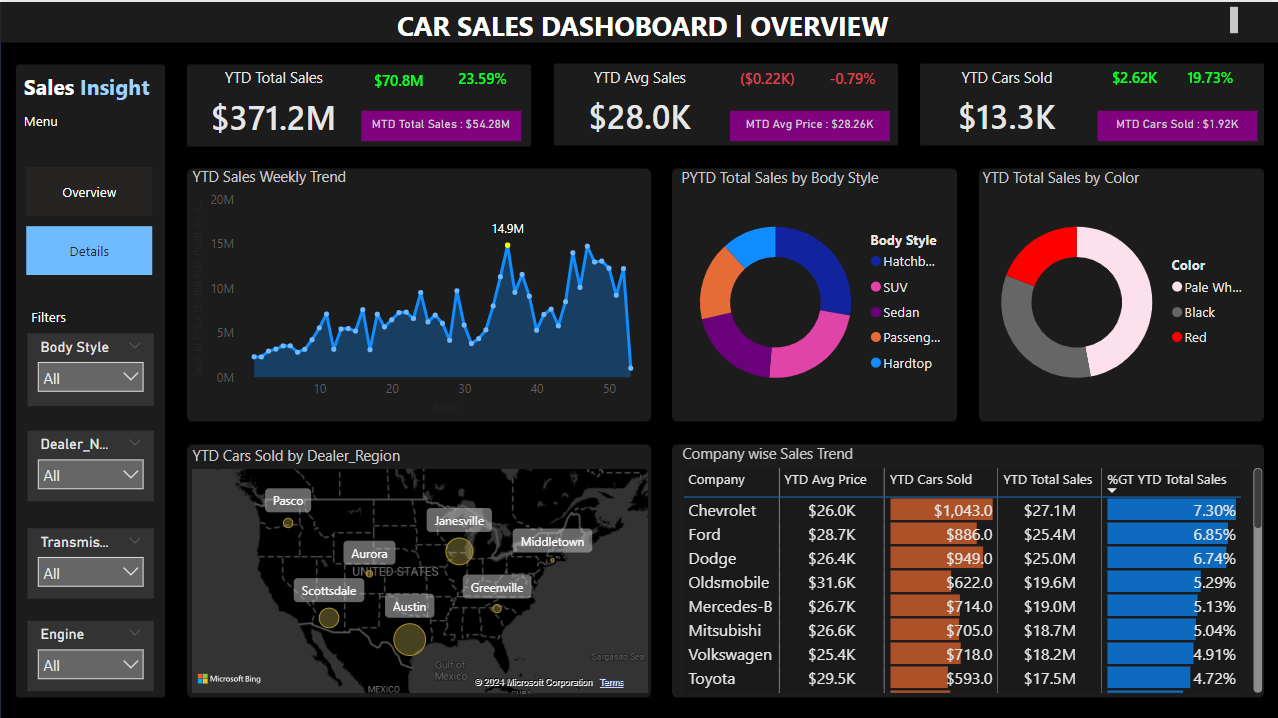

The page's visual inventory and layout, read from the dashboard file:
{"tool":"powerbi","page":{"name":"Overview","canvas":[1280,720],"ordinal":0},"visuals":[{"type":"card","title":"YTD Total Sales","fields":{"Values":["car_data.YTD Total Sales"]},"box":[187.5,65,172.5,80.6],"z":0},{"type":"card","fields":{"Values":["car_data.Sales Difference"]},"box":[362.9,65.7,72.9,28.6],"z":1000},{"type":"card","fields":{"Values":["car_data.YoY Sales Growth"]},"box":[446.4,65.5,72.7,28.2],"z":2000},{"type":"card","fields":{"Values":["car_data.MTD KPI"]},"box":[361.4,108.6,160,30],"z":3000},{"type":"card","title":"YTD Avg Sales","fields":{"Values":["car_data.YTD Avg Price"]},"box":[553.3,65.6,172.2,80],"z":4000},{"type":"card","fields":{"Values":["car_data.Avg price Diff"]},"box":[725.4,65.4,84.6,26.9],"z":5000},{"type":"card","fields":{"Values":["car_data.YoY avg Price Growth"]},"box":[810,65,85,27.5],"z":6000},{"type":"card","fields":{"Values":["car_data.MTD Avg Price KPI"]},"box":[730,108.8,160,30],"z":7000},{"type":"card","title":"YTD Cars Sold","fields":{"Values":["car_data.YTD Cars Sold"]},"box":[921.2,65,171.2,80],"z":8000},{"type":"card","fields":{"Values":["car_data.Cars Sold Diff"]},"box":[1092.9,64.3,84.3,27.1],"z":9000},{"type":"card","fields":{"Values":["car_data.YoY car sold growth"]},"box":[1167.1,64.3,85.7,27.1],"z":10000},{"type":"card","fields":{"Values":["car_data.MTD Cars Sold KPI"]},"box":[1097.1,108.6,160,30],"z":11000},{"type":"areaChart","title":"YTD Sales Weekly Trend","fields":{"Category":["Calendar Table.Week"],"Y":["Sum(car_data.Price ($))","car_data.Max Point on Are chart"]},"box":[187.1,164.3,465.7,251.4],"z":12000},{"type":"donutChart","fields":{"Category":["car_data.Body Style"],"Y":["car_data.PYTD Total Sales"]},"box":[676.8,165.3,279.9,250.9],"z":13000},{"type":"donutChart","fields":{"Category":["car_data.Color"],"Y":["car_data.YTD Total Sales"]},"box":[977.2,165.3,279.9,250.9],"z":14000},{"type":"map","fields":{"Category":["car_data.Dealer_Region"],"Size":["car_data.YTD Cars Sold"]},"box":[187,442,466,254],"z":15000},{"type":"tableEx","title":"Company wise Sales Trend","fields":{"Values":["car_data.Company","car_data.YTD Avg Price","car_data.YTD Cars Sold","car_data.YTD Total Sales1","car_data.YTD Total Sales"]},"box":[677.1,441.4,590,254.3],"z":16000},{"type":"textbox","box":[50,0,1192.9,40],"z":17000},{"type":"slicer","fields":{"Values":["car_data.Body Style"]},"box":[26.9,330.8,126.2,73.1],"z":18000},{"type":"slicer","fields":{"Values":["car_data.Dealer_Name"]},"box":[26.9,429.2,126.2,70.8],"z":19000},{"type":"slicer","fields":{"Values":["car_data.Transmission"]},"box":[26.9,526.2,126.2,70.8],"z":20000},{"type":"slicer","fields":{"Values":["car_data.Engine"]},"box":[26.9,619.2,126.2,70.8],"z":21000},{"type":"textbox","box":[18.9,64.4,144.4,44.4],"z":22000},{"type":"pageNavigator","box":[26.7,164.4,126.7,108.9],"z":23000},{"type":"textbox","box":[19.2,105,122.5,34.2],"z":24000},{"type":"textbox","box":[26.7,301.1,136.7,30],"z":25000}]}

Visuals, with their boxes in screenshot pixels (x1, y1, x2, y2), scaled from the page's 1280x720 canvas onto the 1278x718 screenshot:
"YTD Total Sales" card: select_region(187, 65, 359, 145)
card - car_data.Sales Difference: select_region(362, 66, 435, 94)
card - car_data.YoY Sales Growth: select_region(446, 65, 518, 93)
card - car_data.MTD KPI: select_region(361, 108, 521, 138)
"YTD Avg Sales" card: select_region(552, 65, 724, 145)
card - car_data.Avg price Diff: select_region(724, 65, 809, 92)
card - car_data.YoY avg Price Growth: select_region(809, 65, 894, 92)
card - car_data.MTD Avg Price KPI: select_region(729, 108, 889, 138)
"YTD Cars Sold" card: select_region(920, 65, 1091, 145)
card - car_data.Cars Sold Diff: select_region(1091, 64, 1175, 91)
card - car_data.YoY car sold growth: select_region(1165, 64, 1251, 91)
card - car_data.MTD Cars Sold KPI: select_region(1095, 108, 1255, 138)
"YTD Sales Weekly Trend" areaChart: select_region(187, 164, 652, 415)
donutChart - car_data.Body Style x car_data.PYTD Total Sales: select_region(676, 165, 955, 415)
donutChart - car_data.Color x car_data.YTD Total Sales: select_region(976, 165, 1255, 415)
map - car_data.Dealer_Region x car_data.YTD Cars Sold: select_region(187, 441, 652, 694)
"Company wise Sales Trend" tableEx: select_region(676, 440, 1265, 694)
textbox: select_region(50, 0, 1241, 40)
slicer - car_data.Body Style: select_region(27, 330, 153, 403)
slicer - car_data.Dealer_Name: select_region(27, 428, 153, 499)
slicer - car_data.Transmission: select_region(27, 525, 153, 595)
slicer - car_data.Engine: select_region(27, 617, 153, 688)
textbox: select_region(19, 64, 163, 108)
pageNavigator: select_region(27, 164, 153, 273)
textbox: select_region(19, 105, 141, 139)
textbox: select_region(27, 300, 163, 330)
